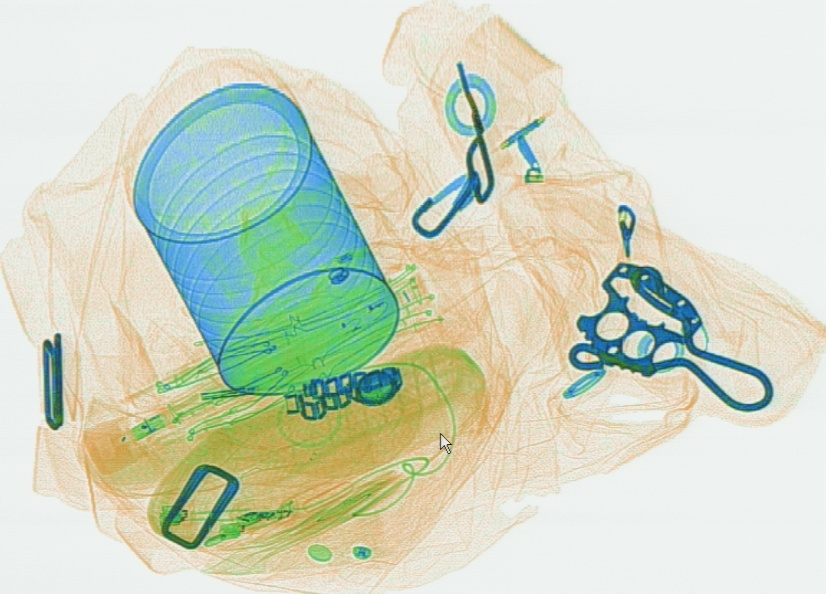slingshot: (566, 264, 774, 412)
